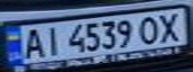3: (100, 18, 121, 51)
4: (63, 21, 87, 53)
5: (81, 20, 103, 52)
9: (115, 17, 139, 48)
A: (18, 26, 48, 60)
I: (39, 24, 63, 56)
O: (136, 14, 163, 45)
X: (154, 10, 187, 43)
